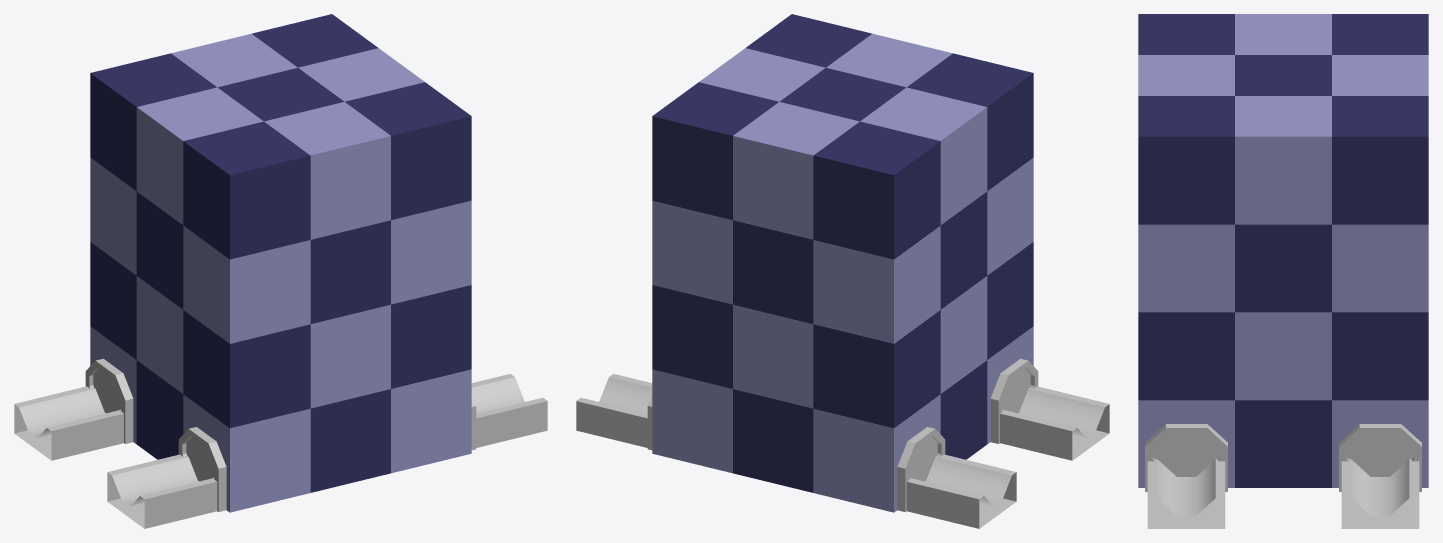
The model's file is SmallStorage_StorageLooseSmall.obj.
The picture shows the model from 3 angles, left to right: view 1: azimuth 30°, elevation 25°; view 2: azimuth 150°, elevation 25°; view 3: azimuth 270°, elevation 25°; orthographic projection. The views are drawn at different scales.
Size of the model in its own units: 10 by 8 by 6.
